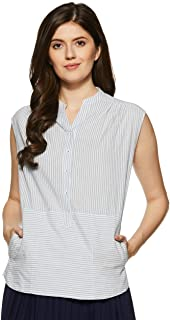shirt: (6, 87, 130, 294)
